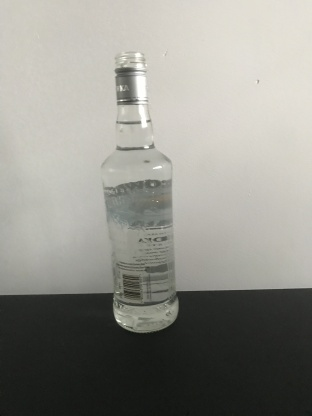nakretka: (113, 51, 150, 105)
